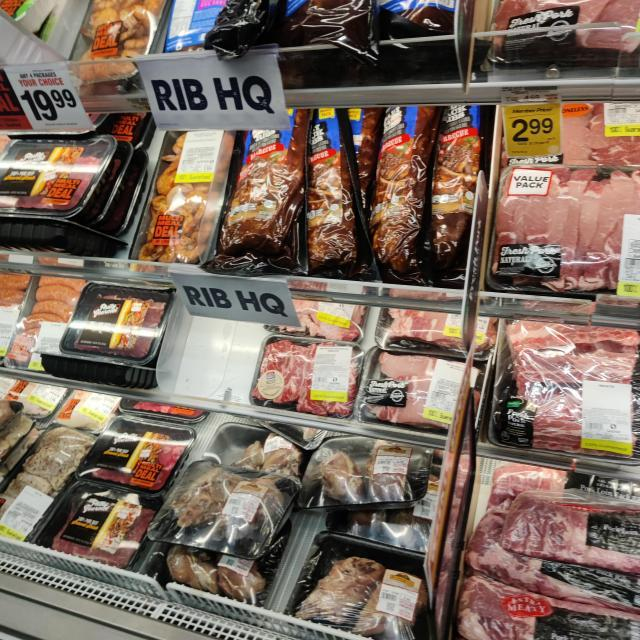Meat: (491, 158, 639, 298), (468, 478, 640, 598), (223, 107, 313, 277), (121, 119, 225, 266), (497, 342, 639, 449), (299, 538, 429, 640), (163, 459, 295, 556), (367, 107, 437, 285), (305, 430, 441, 516), (245, 335, 359, 423), (354, 342, 469, 426), (429, 104, 481, 281), (55, 282, 169, 358), (50, 483, 154, 563), (9, 269, 79, 379), (83, 417, 184, 489)
